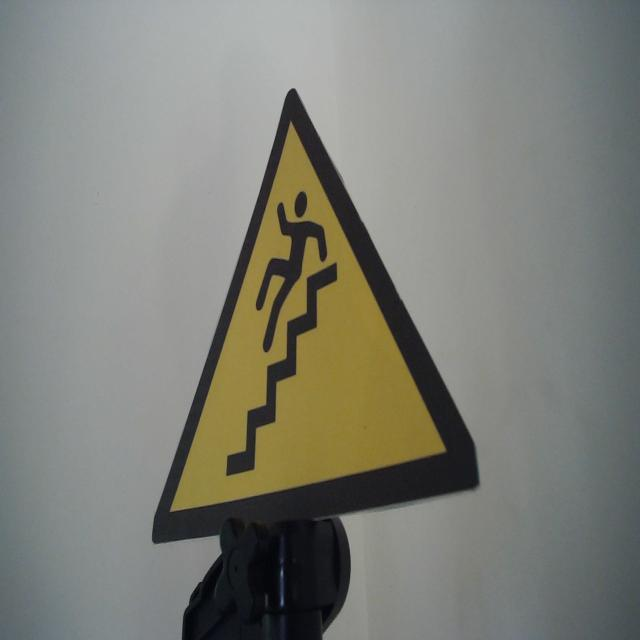stairs: (151, 86, 482, 547)
